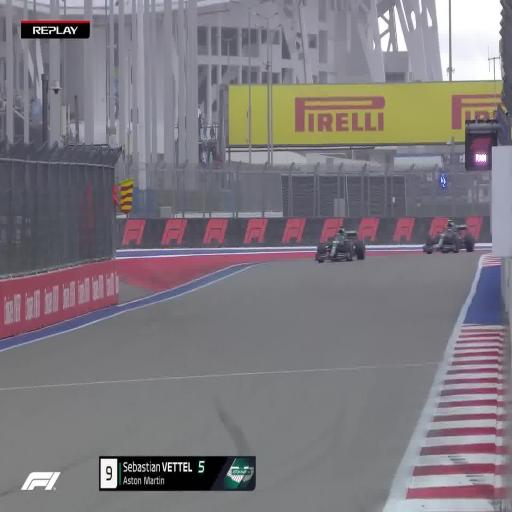f1_car: (423, 220, 474, 253), (315, 229, 365, 262)
